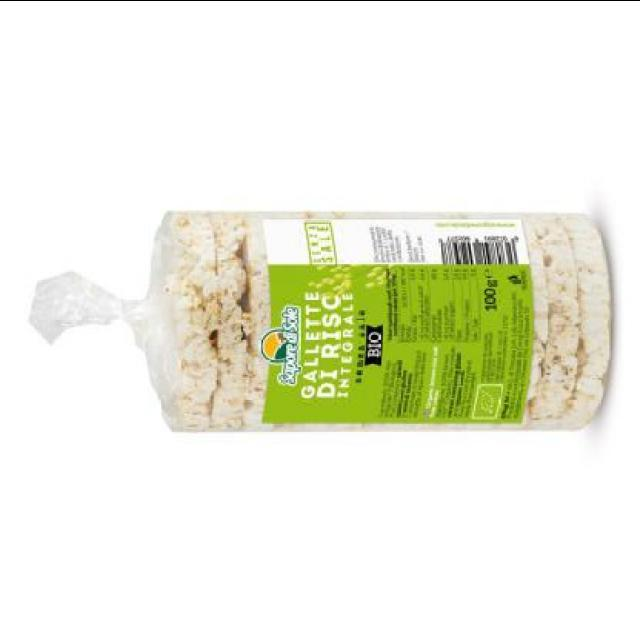Gallette di riso: (21, 202, 616, 436)
